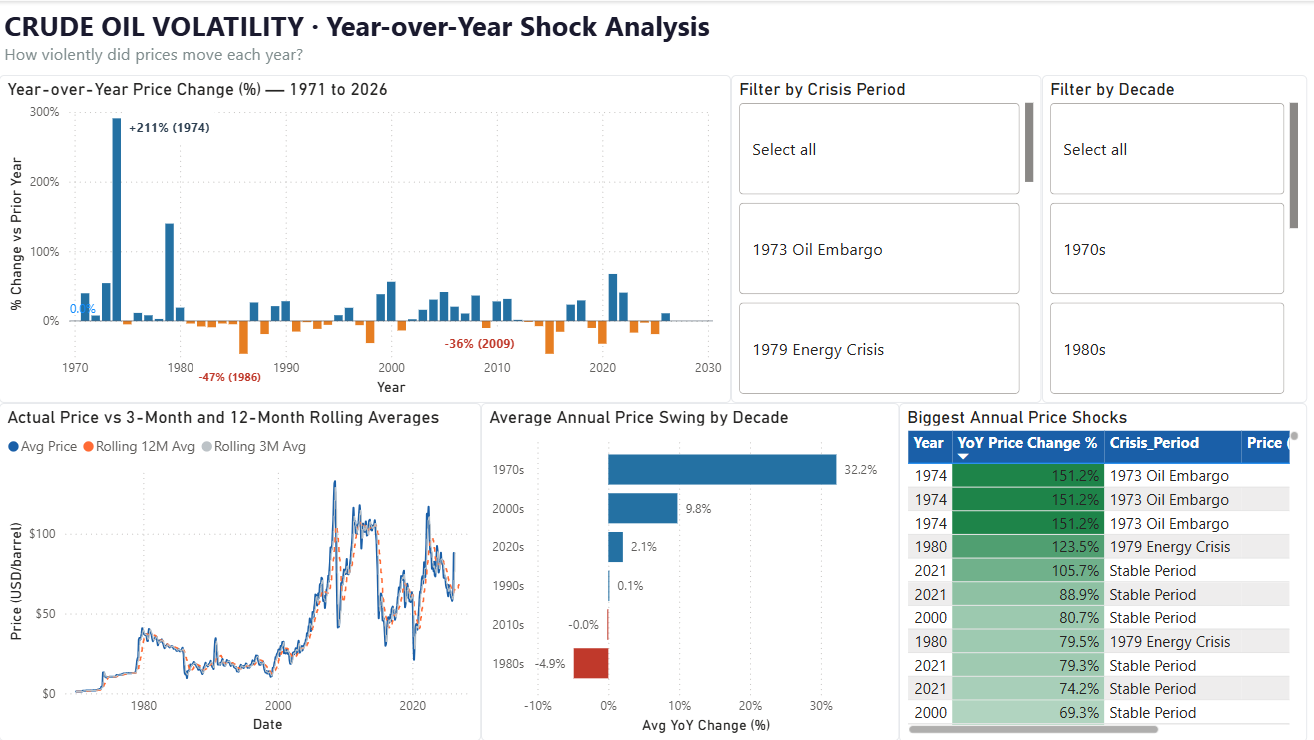

Layout of this report page (visuals, bound fields, positions):
{"tool":"powerbi","page":{"name":"📉 Volatility & Shocks","canvas":[1280,720],"ordinal":1},"visuals":[{"type":"textbox","box":[0,0,721.4,48],"z":0},{"type":"textbox","box":[0,35,307.8,37],"z":1000},{"type":"clusteredColumnChart","title":"Year-over-Year Price Change (%) — 1971 to 2026","fields":{"Category":["DateTable.Year"],"Y":["FuelPrices.YoY Price Change %"]},"box":[0,72,712,319],"z":2000},{"type":"textbox","box":[120.6,108,89.5,30.2],"z":3000},{"type":"textbox","box":[188.7,350.2,76.8,33.1],"z":4000},{"type":"textbox","box":[428,318.1,81.7,32.1],"z":5000},{"type":"lineChart","title":"Actual Price vs 3-Month and 12-Month Rolling Averages","fields":{"Category":["DateTable.Date"],"Y":["FuelPrices.Avg Price","FuelPrices.Rolling 12M Avg","FuelPrices.Rolling 3M Avg"]},"box":[0,391,468.8,328.8],"z":6000},{"type":"tableEx","title":"Biggest Annual Price Shocks","fields":{"Values":["DateTable.Year","FuelPrices.YoY Price Change %","FuelPrices.Crisis_Period","Sum(FuelPrices.Price_USD)","FuelPrices.Month Name"]},"box":[875.4,391,396.8,329.7],"z":7000},{"type":"advancedSlicerVisual","title":"Filter by Crisis Period","fields":{"Values":["FuelPrices.Crisis_Period"]},"box":[712,72,302.5,319],"z":8000},{"type":"advancedSlicerVisual","title":"Filter by Decade","fields":{"Values":["DateTable.Decade"]},"box":[1014.5,72,257.8,319],"z":9000},{"type":"clusteredBarChart","title":"Average Annual Price Swing by Decade","fields":{"Category":["DateTable.Decade"],"Y":["FuelPrices.YoY Price Change %"]},"box":[468.8,391,406.6,328.8],"z":10000}]}

Visuals, with their boxes in screenshot pixels (x1, y1, x2, y2), scaled from the page's 1280x720 canvas onto the 1314x740 screenshot:
textbox: box=[0, 0, 741, 49]
textbox: box=[0, 36, 316, 74]
"Year-over-Year Price Change (%) — 1971 to 2026" clusteredColumnChart: box=[0, 74, 731, 402]
textbox: box=[124, 111, 216, 142]
textbox: box=[194, 360, 273, 394]
textbox: box=[439, 327, 523, 360]
"Actual Price vs 3-Month and 12-Month Rolling Averages" lineChart: box=[0, 402, 481, 739]
"Biggest Annual Price Shocks" tableEx: box=[899, 402, 1306, 739]
"Filter by Crisis Period" advancedSlicerVisual: box=[731, 74, 1041, 402]
"Filter by Decade" advancedSlicerVisual: box=[1041, 74, 1306, 402]
"Average Annual Price Swing by Decade" clusteredBarChart: box=[481, 402, 899, 739]
